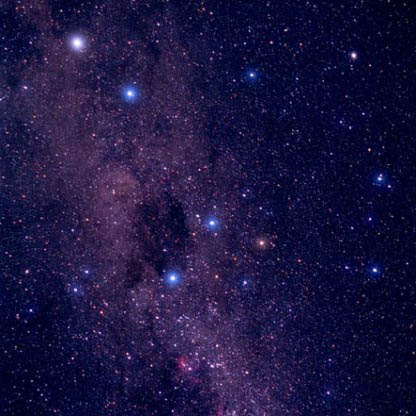Southern Cross: (250, 232, 274, 256), (161, 267, 184, 290), (203, 211, 223, 233), (235, 274, 255, 292)
